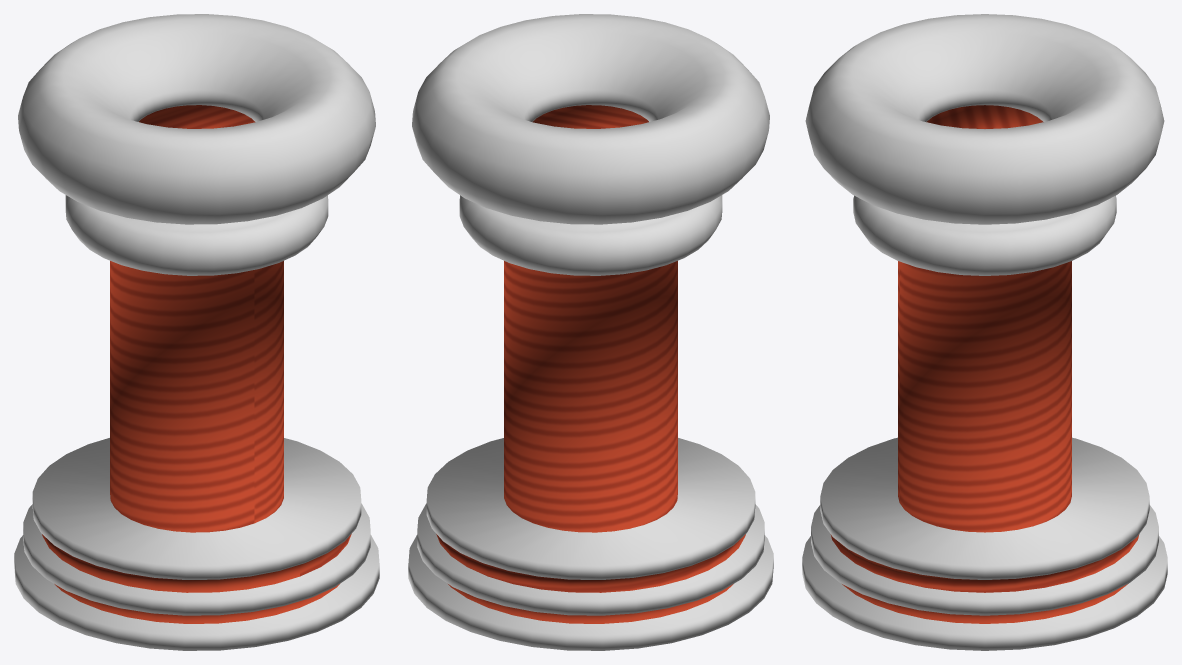
The model's file is Item_TeslaCoil.fbx.
3 views of the same model, side by side, from view 1: azimuth 30°, elevation 25°; view 2: azimuth 150°, elevation 25°; view 3: azimuth 270°, elevation 25° (orthographic).
Visible parts, largest first — view 1: Coil; view 2: Coil; view 3: Coil.
Part boxes in pixels (bbox=[...]): Coil: bbox=[14, 14, 379, 650]; Coil: bbox=[408, 14, 773, 650]; Coil: bbox=[802, 14, 1167, 650].
Bounding box in the file's own units: 50 × 75 × 50.
